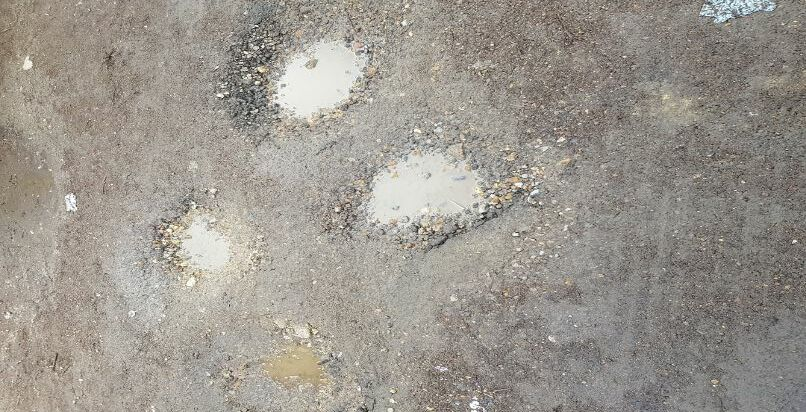pothole: (332, 125, 528, 257), (215, 2, 400, 136), (148, 186, 265, 290)
